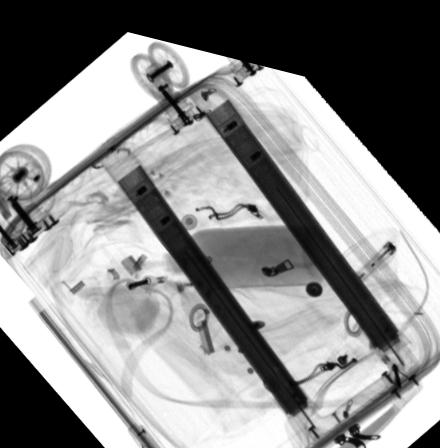Lighter: (352, 219, 397, 265)
